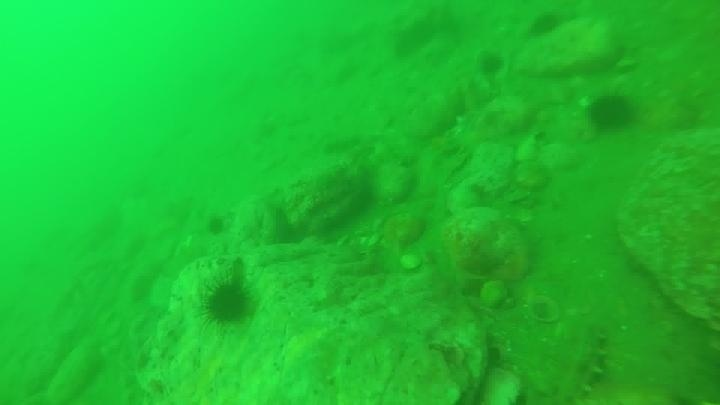echinus: (200, 277, 255, 327), (585, 92, 638, 134), (527, 11, 564, 39), (476, 49, 506, 78), (202, 214, 229, 237)
holothurian: (556, 322, 611, 404)
